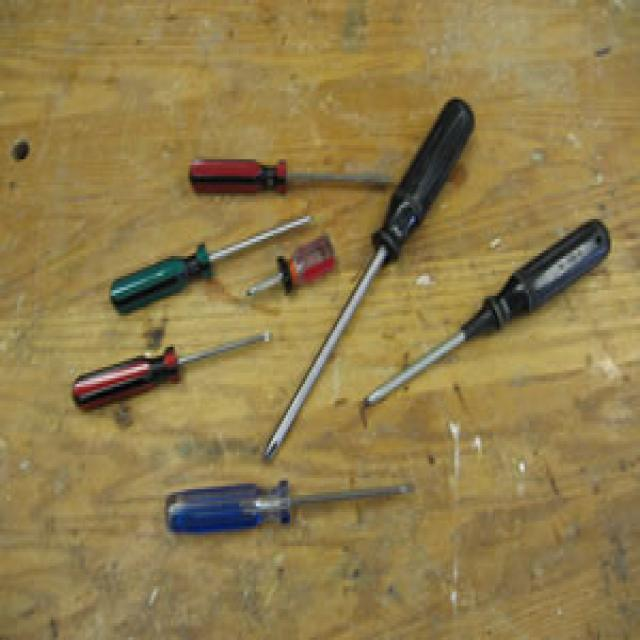screwdriver: (248, 90, 482, 488), (361, 211, 620, 417), (66, 318, 281, 436), (100, 202, 320, 316), (154, 474, 425, 552), (183, 143, 400, 204), (238, 228, 342, 319)
